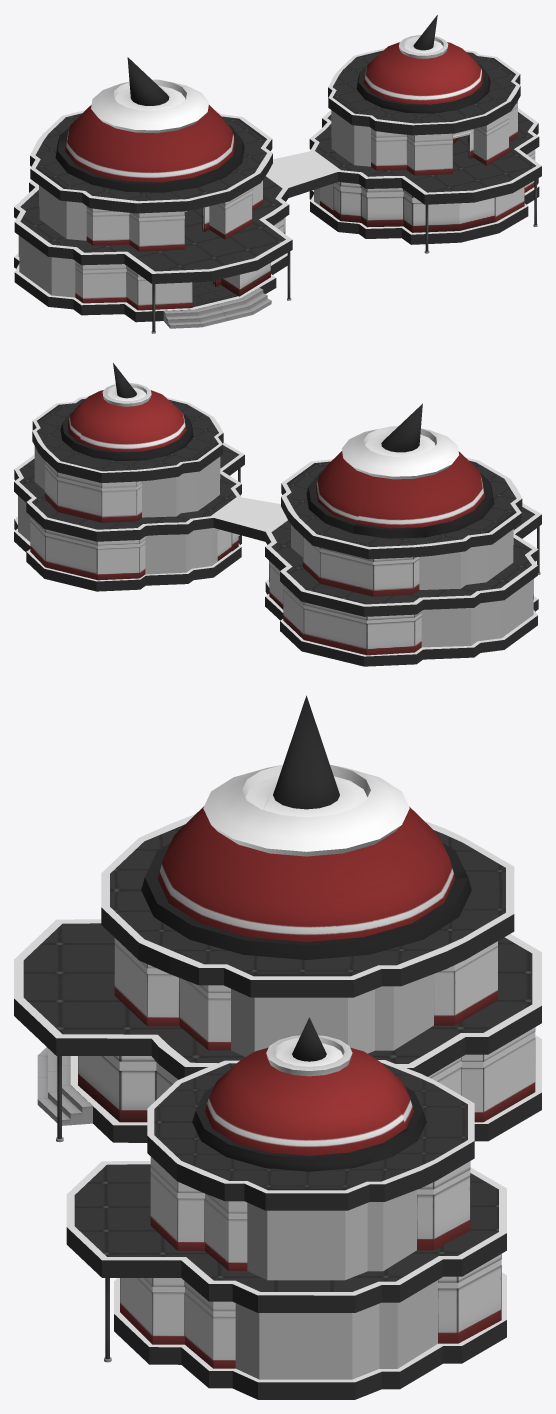
File: Map.FBX
3 views of the same model, one above another, from view 1: azimuth 30°, elevation 25°; view 2: azimuth 150°, elevation 25°; view 3: azimuth 270°, elevation 25° (orthographic). The views are drawn at different scales.
Visible parts, largest first — view 1: Sphere001, Cylinder010, Cylinder003, Box176, Box129, Box150, Cylinder002, Box192, Cylinder006, Box123, Box119, Box158 (+5 smaller); view 2: Sphere001, Cylinder010, Cylinder003, Box131, Box123, Cylinder002, Box151, Box149, Box191, Cylinder006, Box194, Box173 (+8 smaller); view 3: Sphere001, Cylinder010, Cylinder003, Box171, Box185, Box157, Cylinder006, Box172, Box158, Box186, Box134, Box132 (+5 smaller).
Boxes of the visible parts, x1,y1,x2,y2 form: Sphere001: (55,15,490,192); Cylinder010: (14,108,541,283); Cylinder003: (30,48,520,213); Box176: (333,182,495,232); Box129: (75,261,192,310); Box150: (86,206,184,251); Cylinder002: (14,253,287,322); Box192: (371,128,452,175); Cylinder006: (309,178,539,244); Box123: (18,235,75,297); Box119: (163,288,271,328); Box158: (209,180,262,239); Sphere001: (60,363,494,538); Cylinder010: (14,442,541,616); Cylinder003: (32,396,522,559); Box131: (304,602,421,655); Box123: (421,579,533,647); Cylinder002: (265,579,538,666); Box151: (320,547,419,596); Box149: (419,529,513,589); Box191: (142,457,219,517); Cylinder006: (14,516,241,591); Box194: (145,528,217,574); Box173: (30,516,96,579); Sphere001: (141,695,471,1171); Cylinder010: (14,919,541,1312); Cylinder003: (101,814,514,1210); Box171: (235,1280,437,1379); Box185: (247,1190,416,1280); Box157: (231,974,433,1057); Cylinder006: (114,1272,506,1399); Box172: (120,1278,235,1368); Box158: (114,938,230,1050); Box186: (150,1156,247,1270); Box134: (78,1056,178,1122); Box132: (461,1027,535,1122).
Size of the model in its own units: 860 by 354 by 459.
